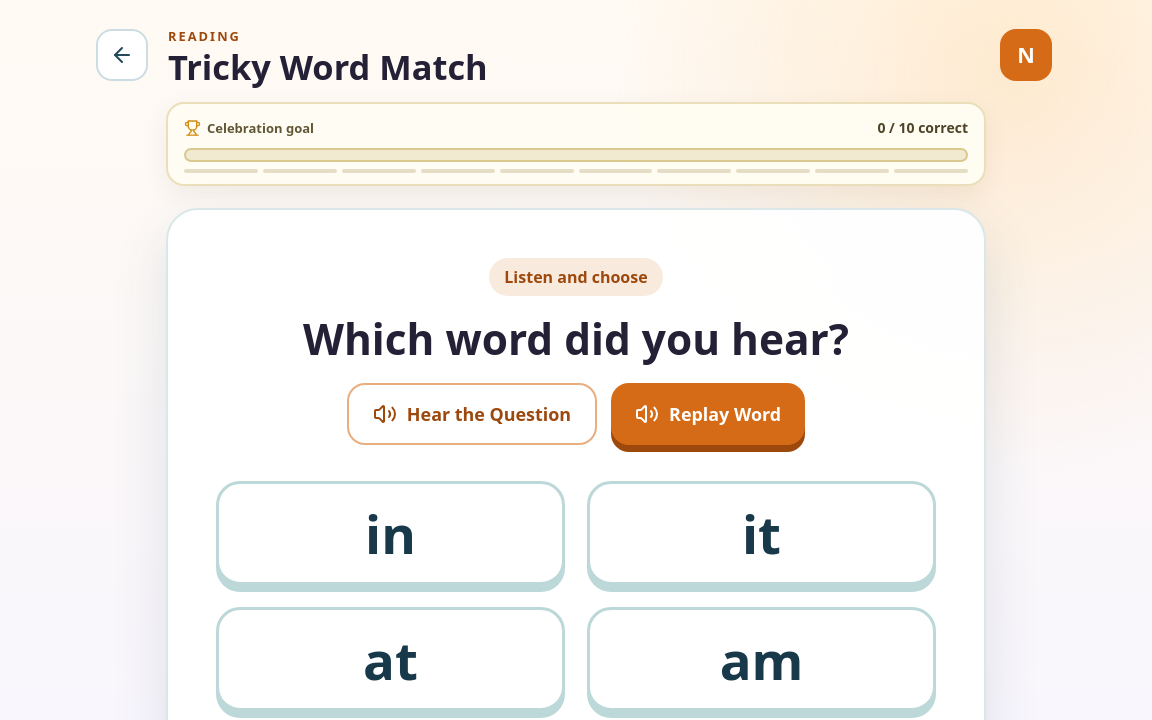
Test: Tricky Word Match game › plays centralized word audio, allows a gentle retry, and records stable IDs
Step 1. Click the button "Hear the Question" → {"x": 472, "y": 414}, box [347,383,597,445]
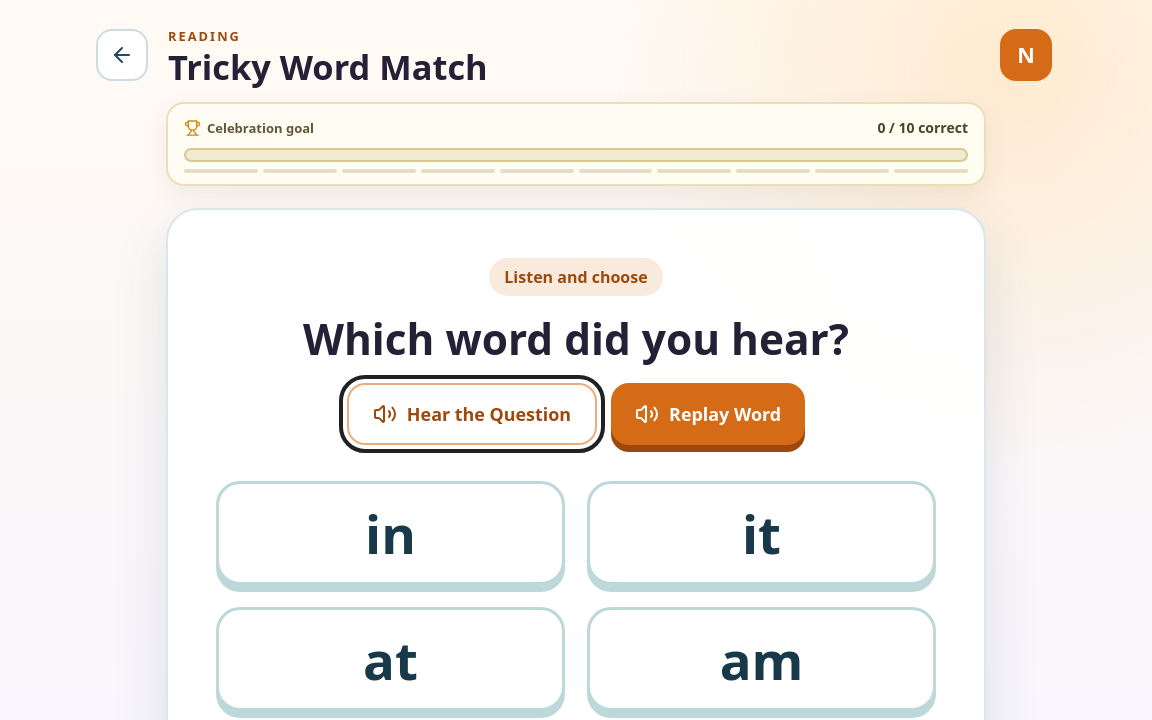
Step 2. Click the button with aria-label "Replay spoken word" → {"x": 708, "y": 414}, box [611,383,805,445]
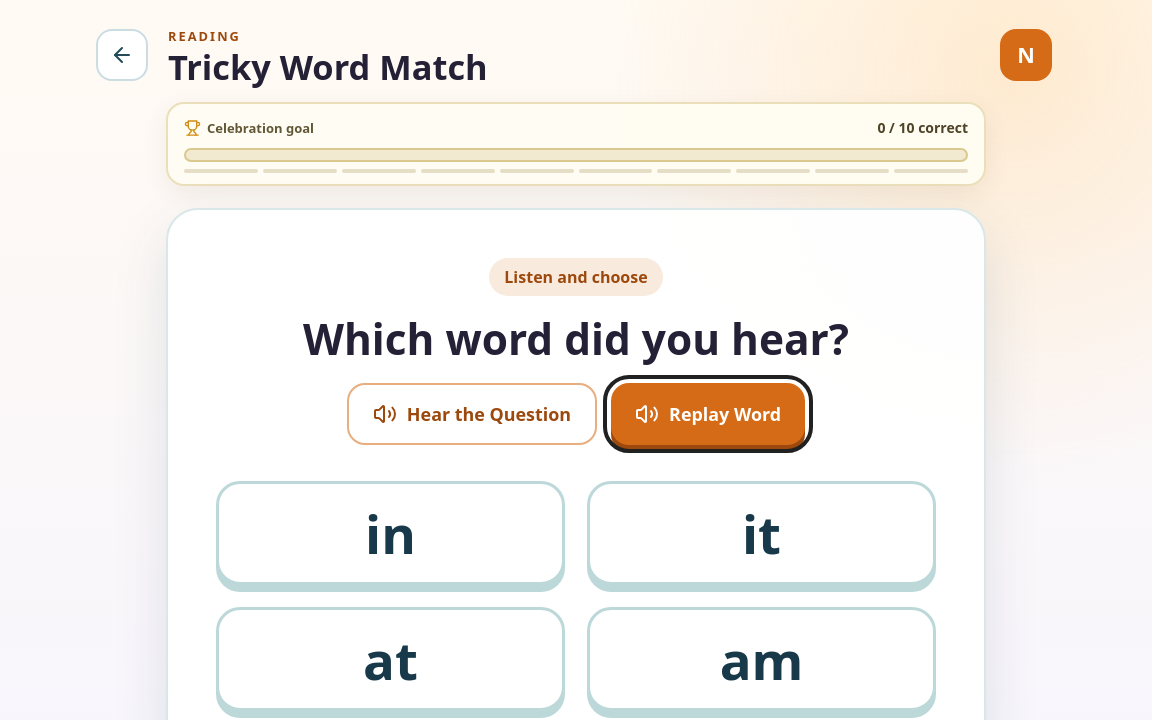
Step 3. Click the button "in" → {"x": 390, "y": 533}, box [216,481,565,585]
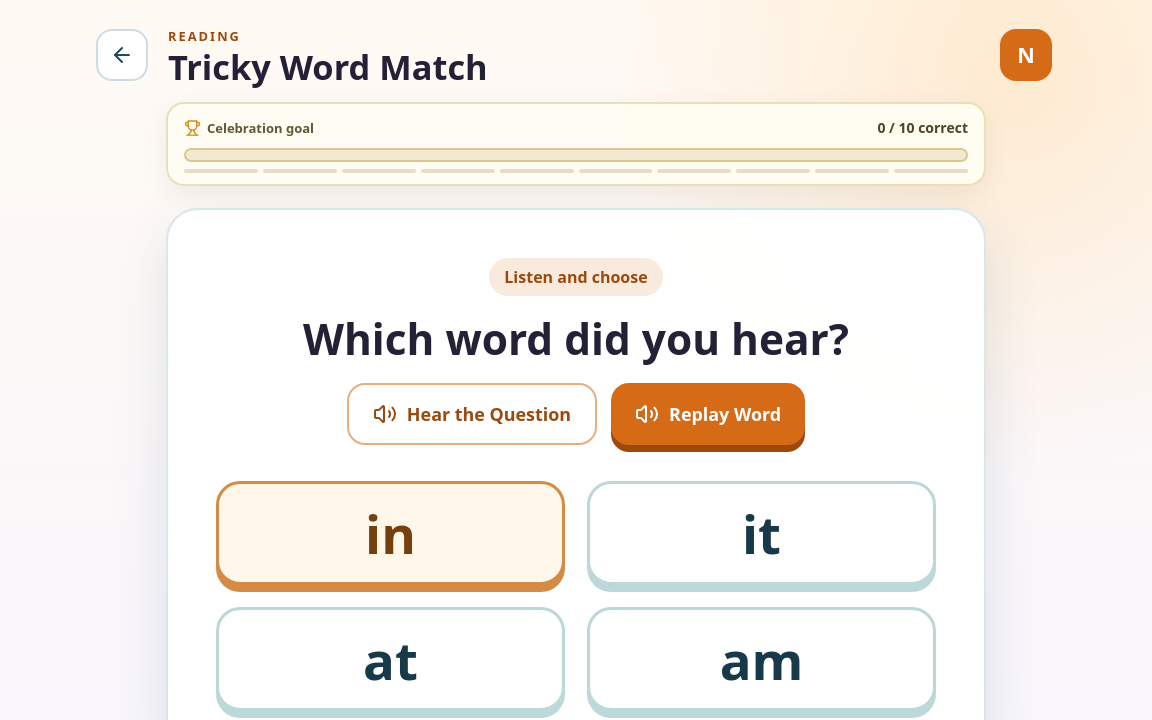
Step 4. Click the button "am" → {"x": 762, "y": 659}, box [587,607,936,711]
(page scrolled)
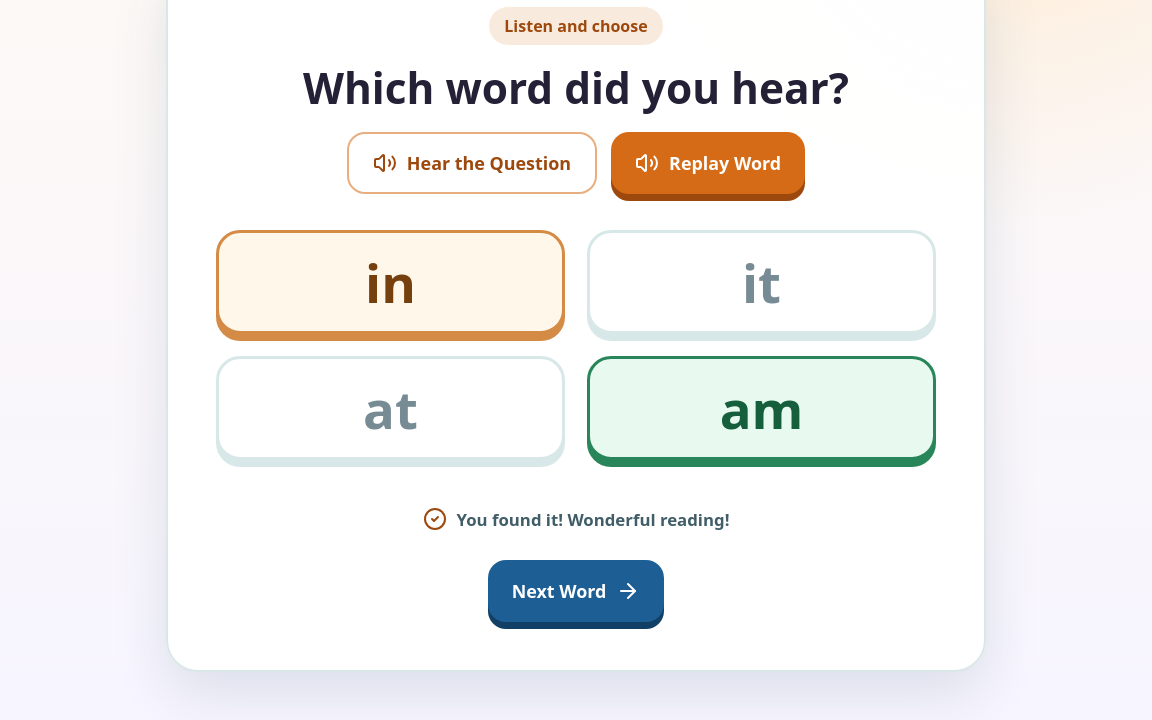
Expected: the text "You found it! Wonderful reading!" is shown, [456,508,729,530]
